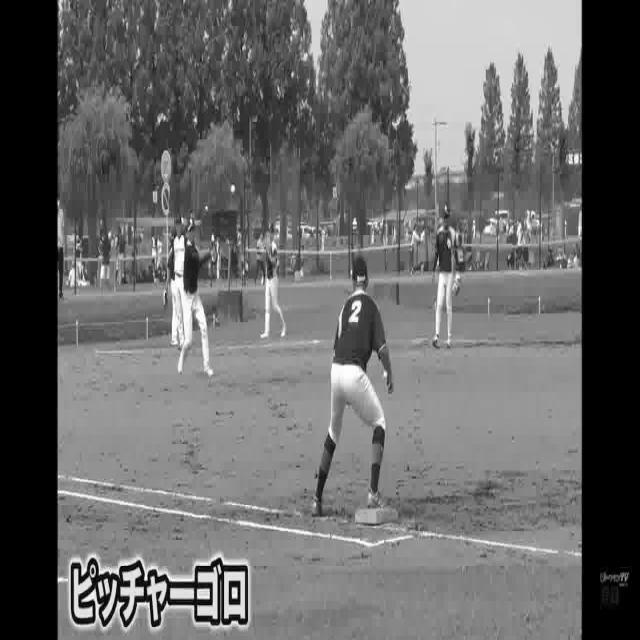base: (354, 506, 401, 526)
baseball: (232, 186, 236, 197)
baseball_glove: (209, 241, 218, 266)
shoe: (364, 491, 389, 508), (177, 351, 190, 380), (202, 357, 217, 381), (312, 496, 324, 520)
